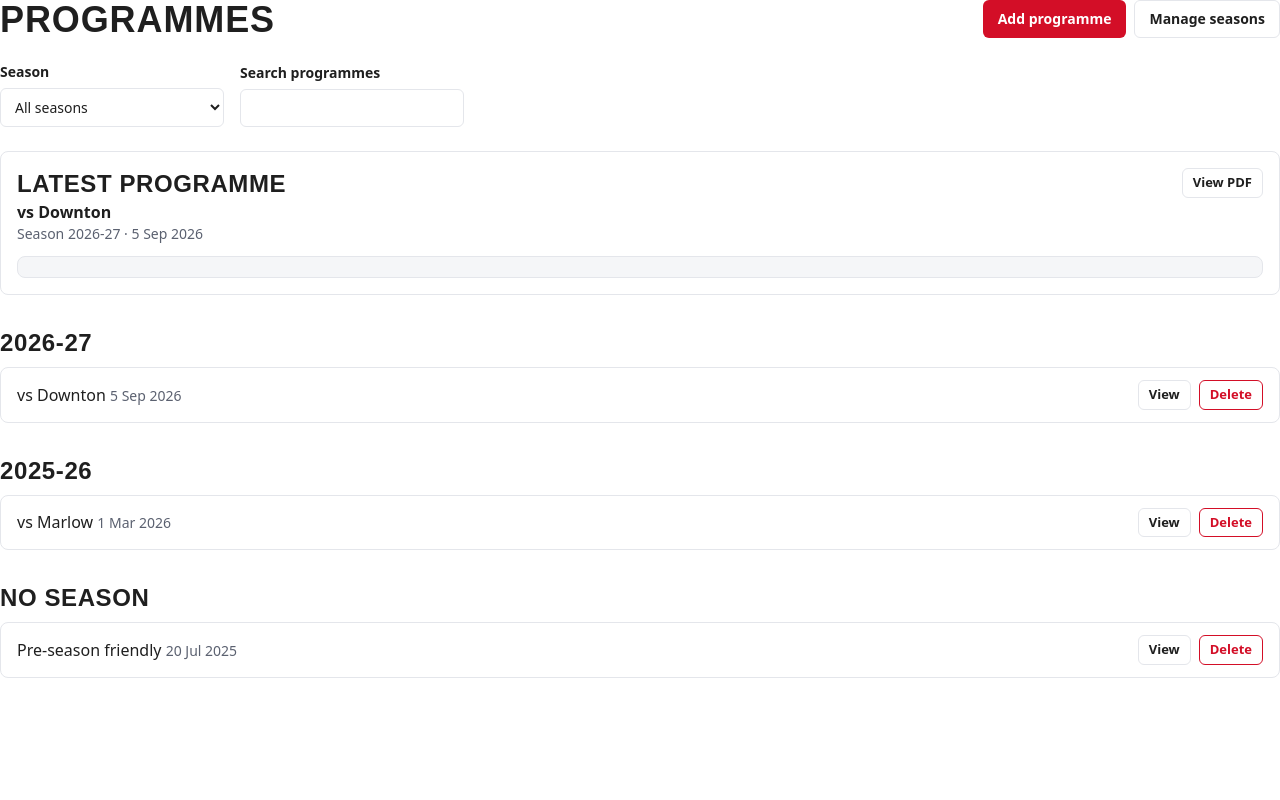
Test: Programmes editing › deletes a programme from its row
Click the 1st button "Delete" at (1231, 395), box [1199,380,1263,410]
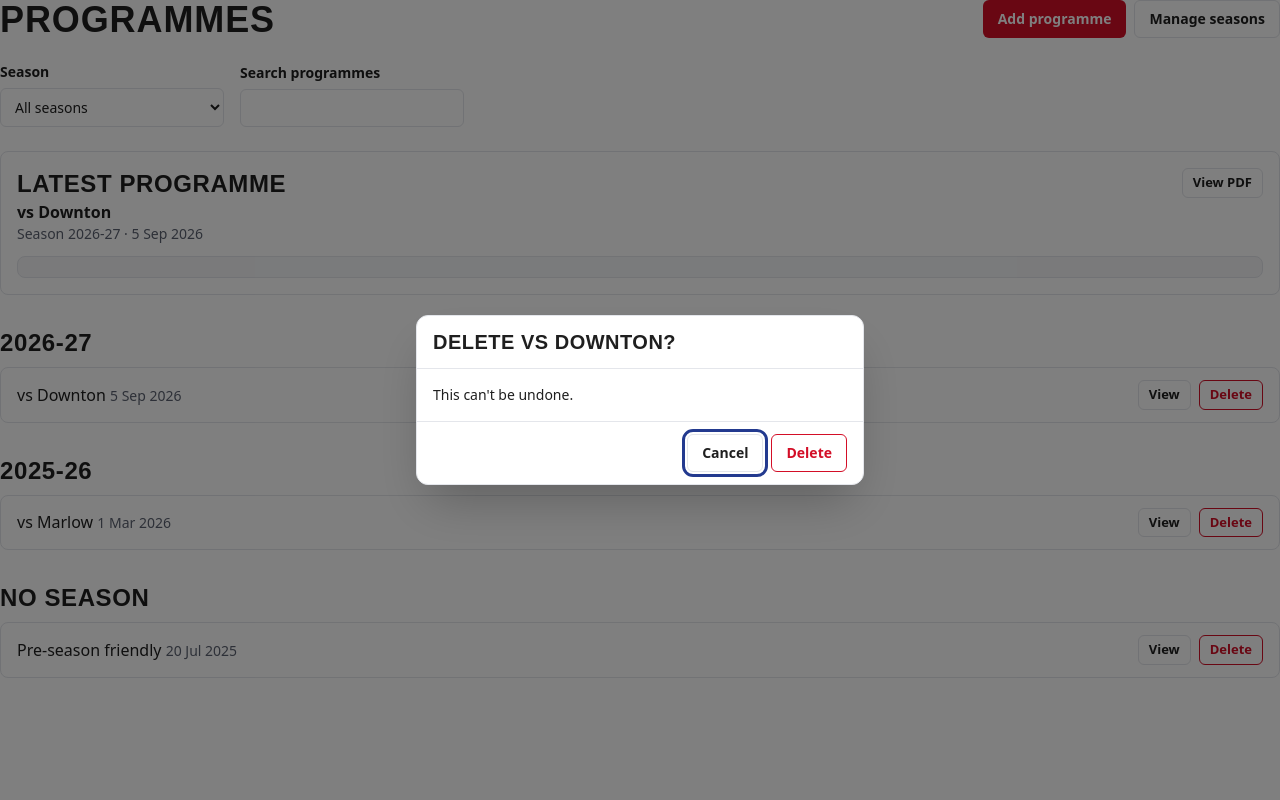
Click the button "Delete" below "This can't be undone." at (809, 453), box [772,434,847,472]
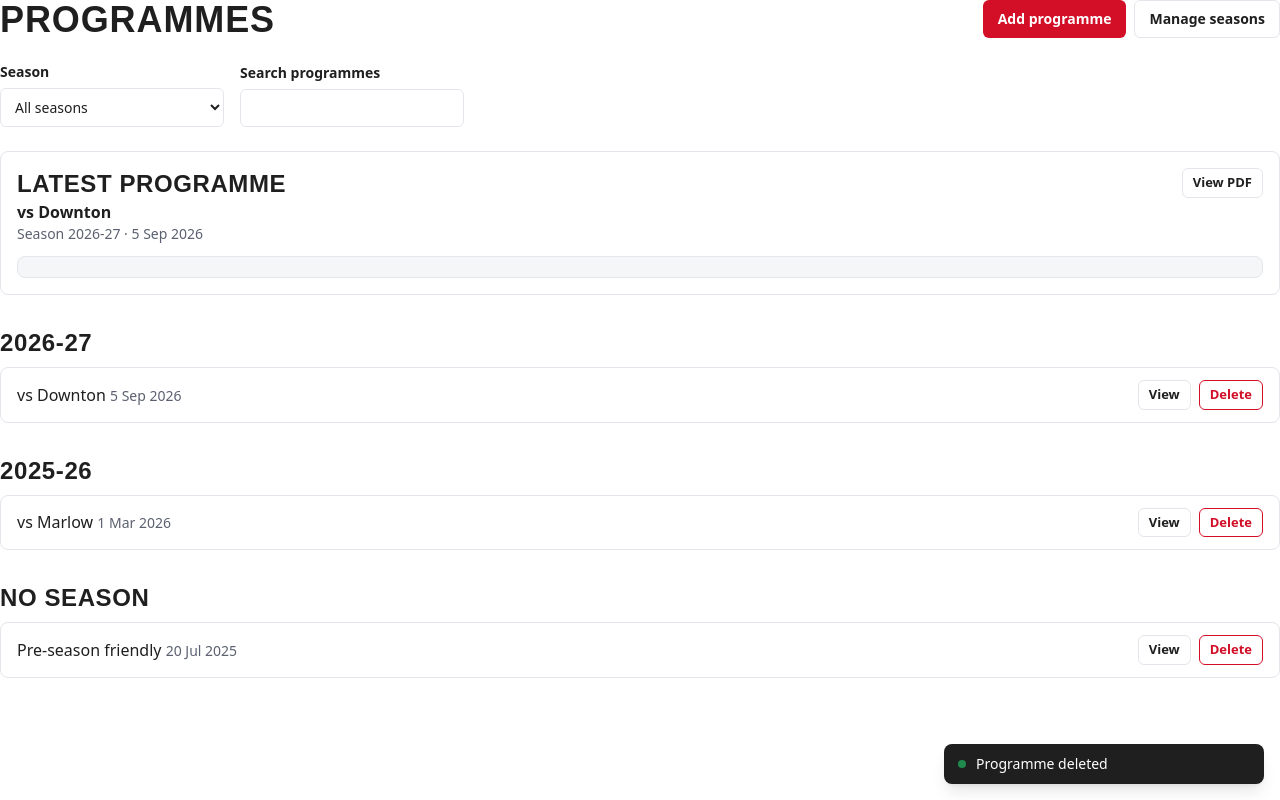
Now the button "Programme deleted" is shown, box [944,744,1264,784]
